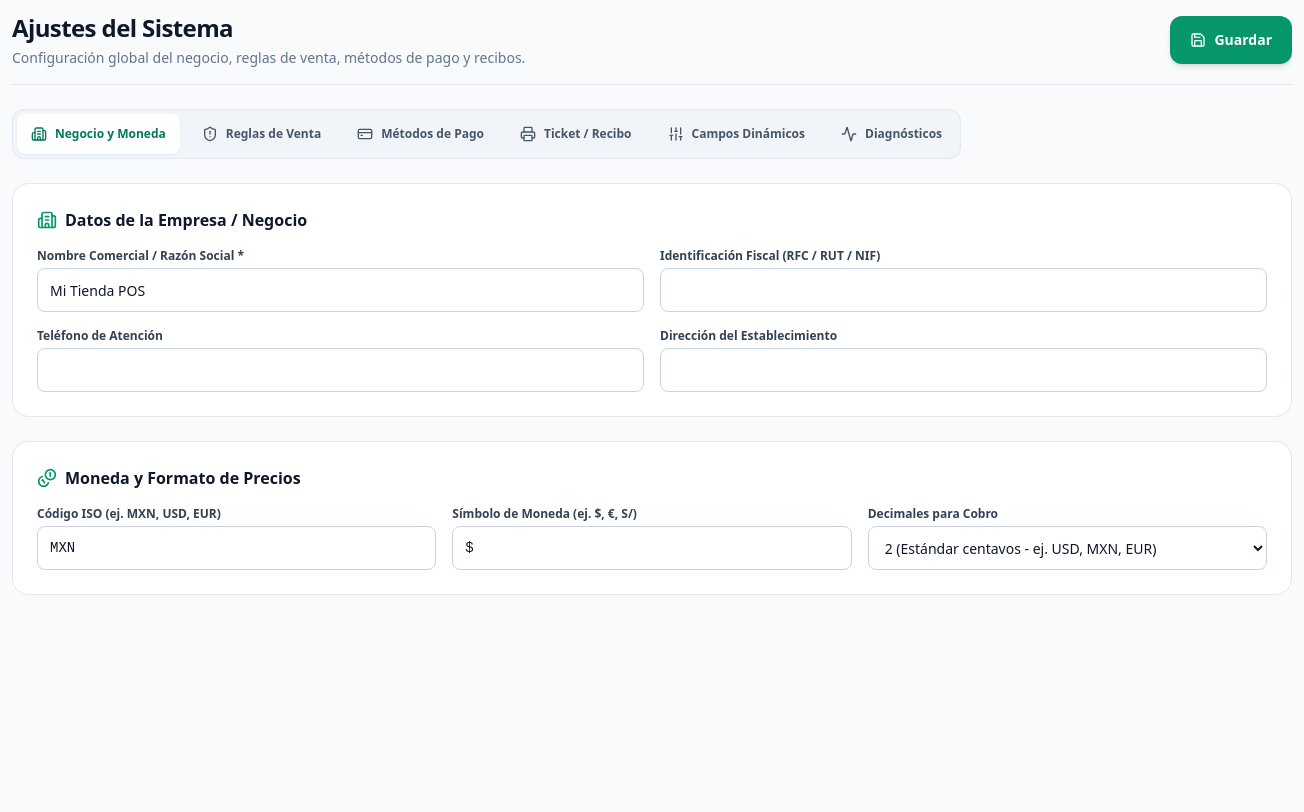
Test: Settings Management (S3-T7) › renders settings and updates business information and currency
The image size is (1304, 812).
Check: the heading "Ajustes del Sistema" is shown, box [12, 11, 233, 44]
Check business tab fields
Replace the text in the field labelled "Nombre Comercial / Razón Social *" with "Super Don Pepe Sucursal 1" at (340, 290), box [37, 268, 644, 312]
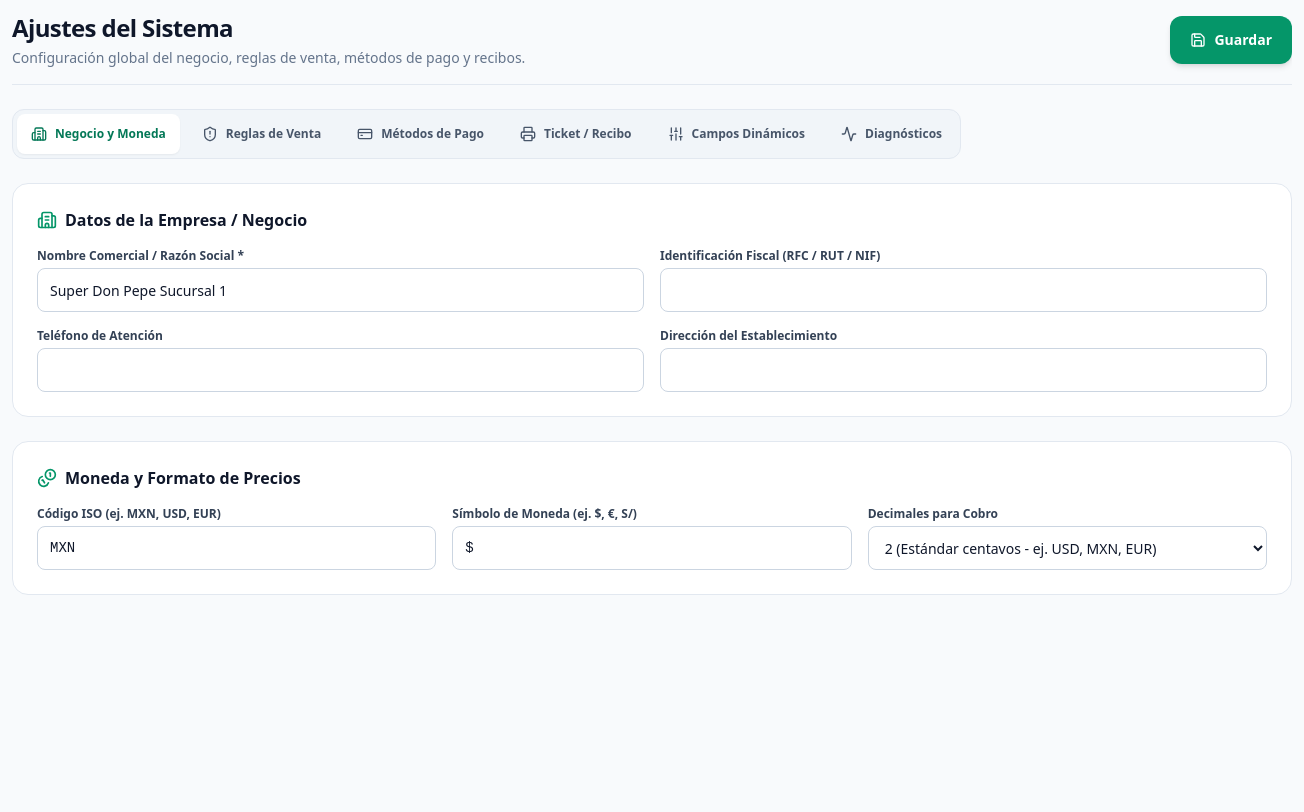
Replace the text in the field labelled "Símbolo de Moneda (ej. $, €, S/)" with "MX$" at (652, 548), box [452, 526, 852, 570]
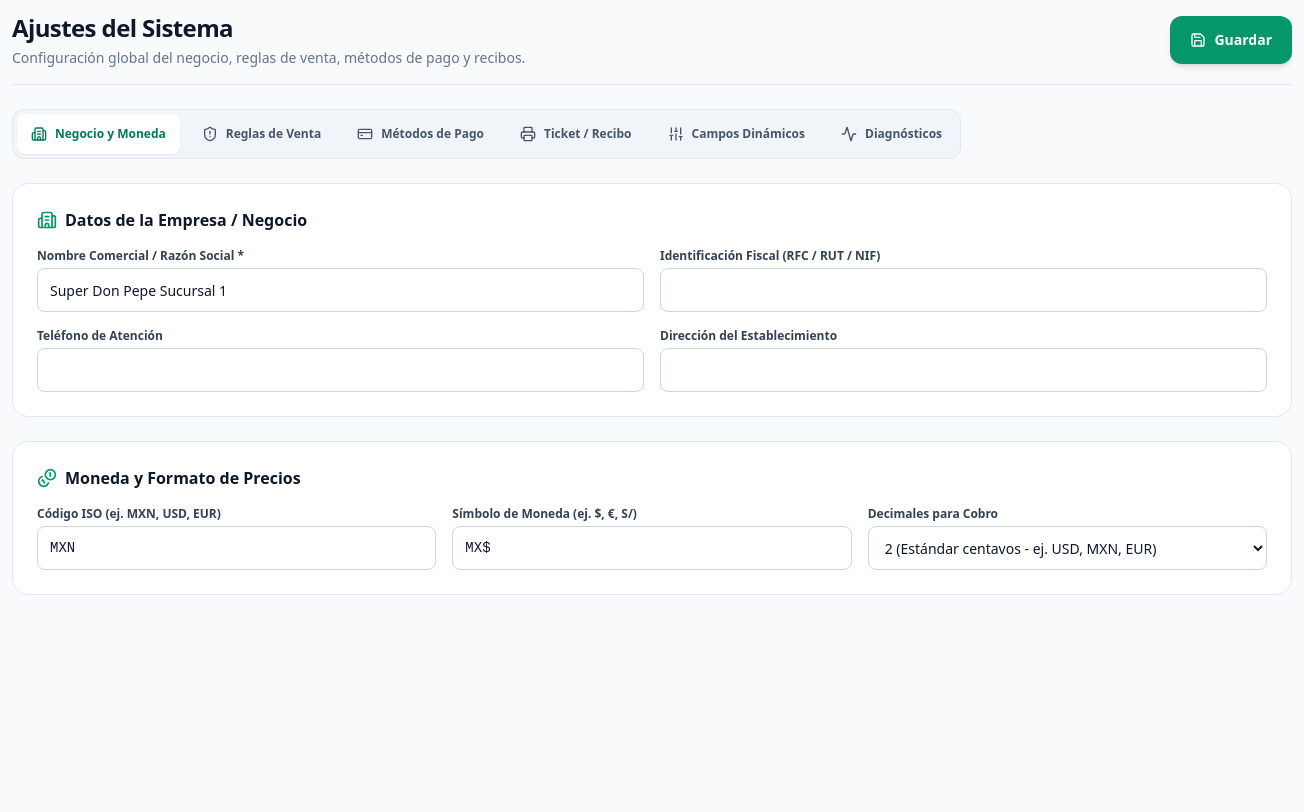
Click Save
Click the button "Guardar" at (1231, 40), box [1170, 16, 1292, 64]
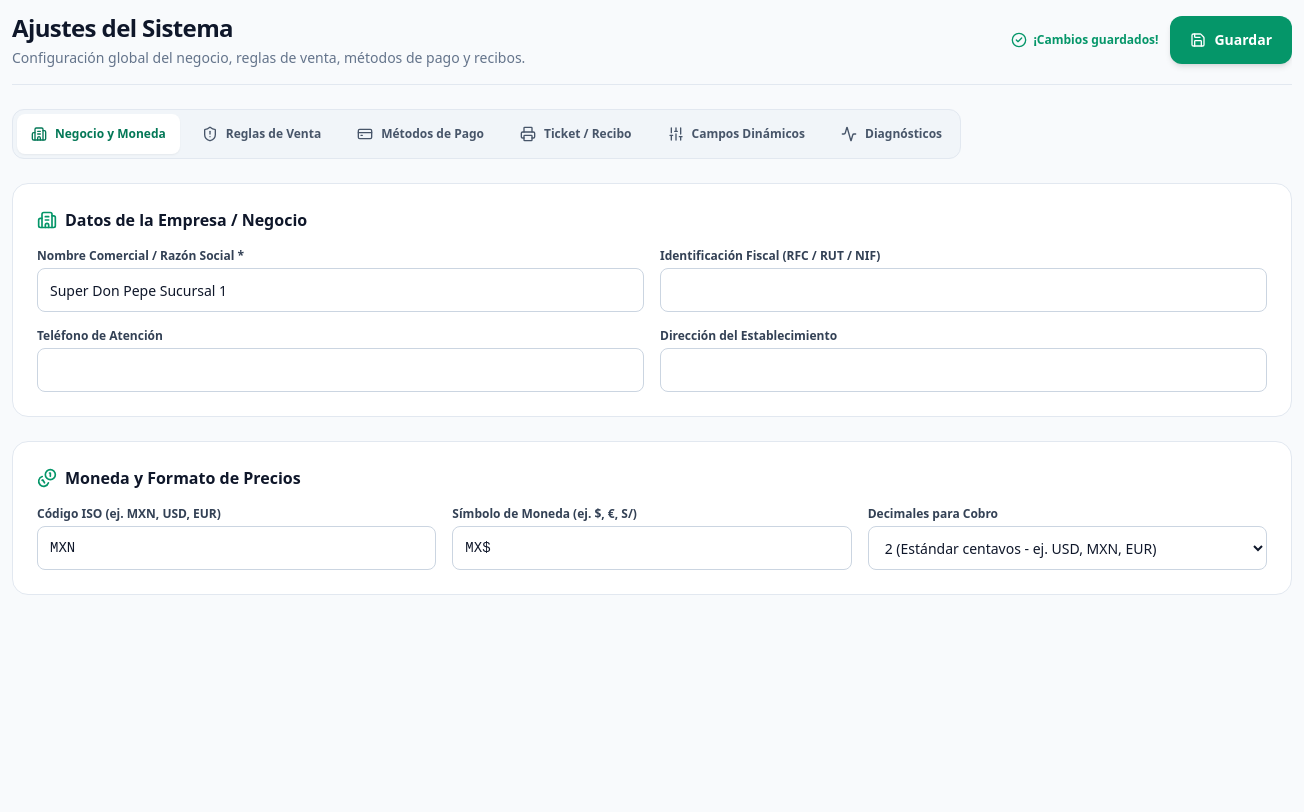
Check: the text "¡Cambios guardados!" is shown, box [1011, 32, 1158, 48]
